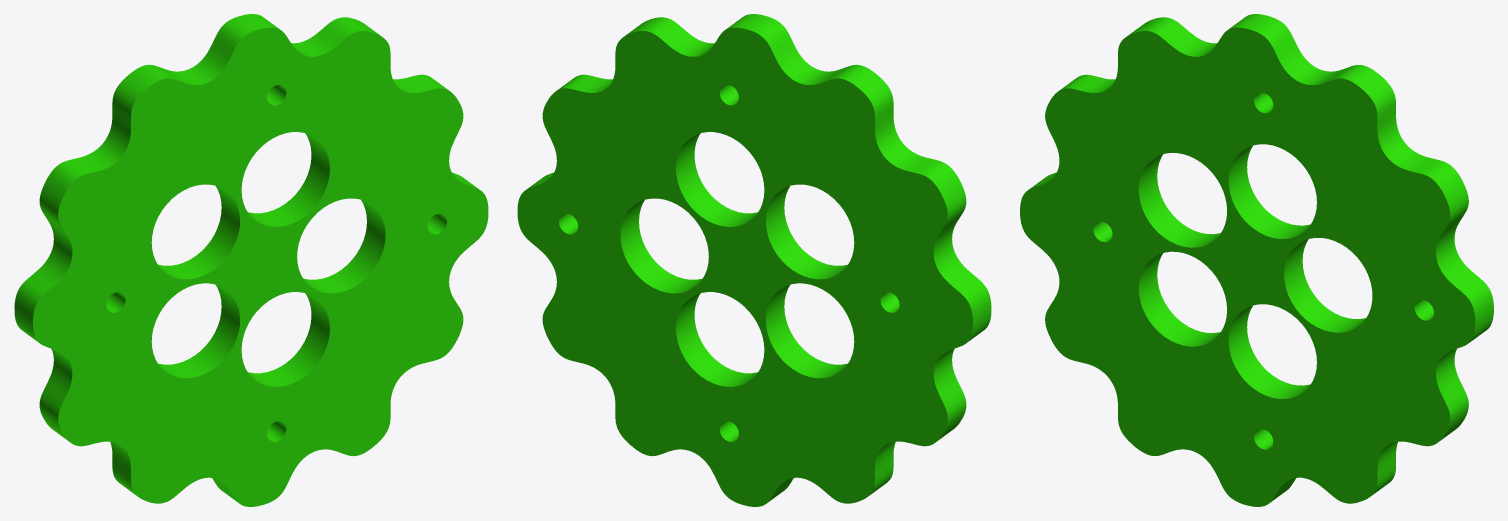
Rendered from gear.obj.
The picture shows the model from 3 angles, left to right: view 1: azimuth 30°, elevation 25°; view 2: azimuth 150°, elevation 25°; view 3: azimuth 330°, elevation 25°; orthographic projection.
Parts seen in each view (by area): view 1: gear2; view 2: gear2; view 3: gear2.
Boxes of the visible parts, box(x1,y1,x2,y2) form: gear2: box(14, 14, 488, 506); gear2: box(517, 14, 991, 506); gear2: box(1020, 14, 1493, 506).
Bounding box in the file's own units: 142 × 142 × 10.
